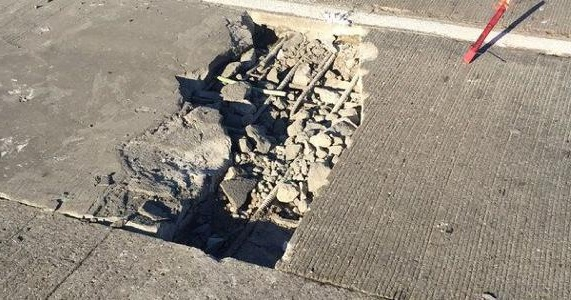pothole: (143, 7, 375, 273)
